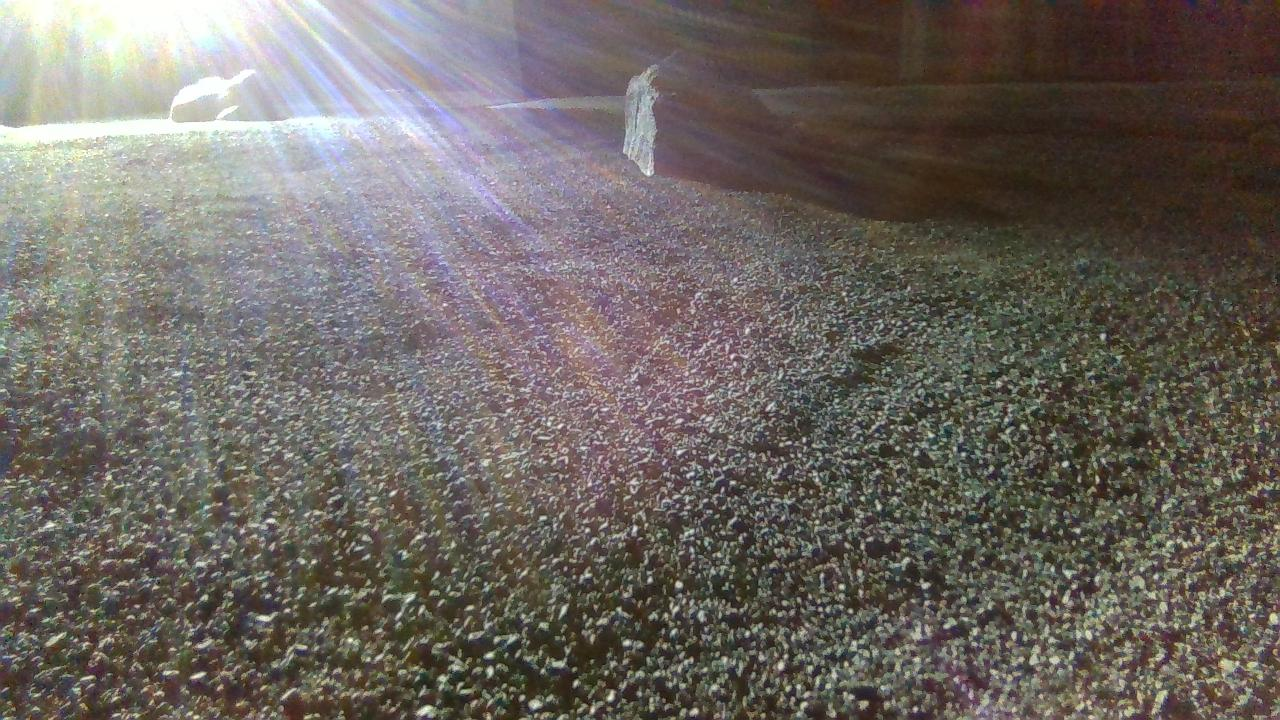rock: (626, 58, 781, 176), (169, 77, 286, 118)
